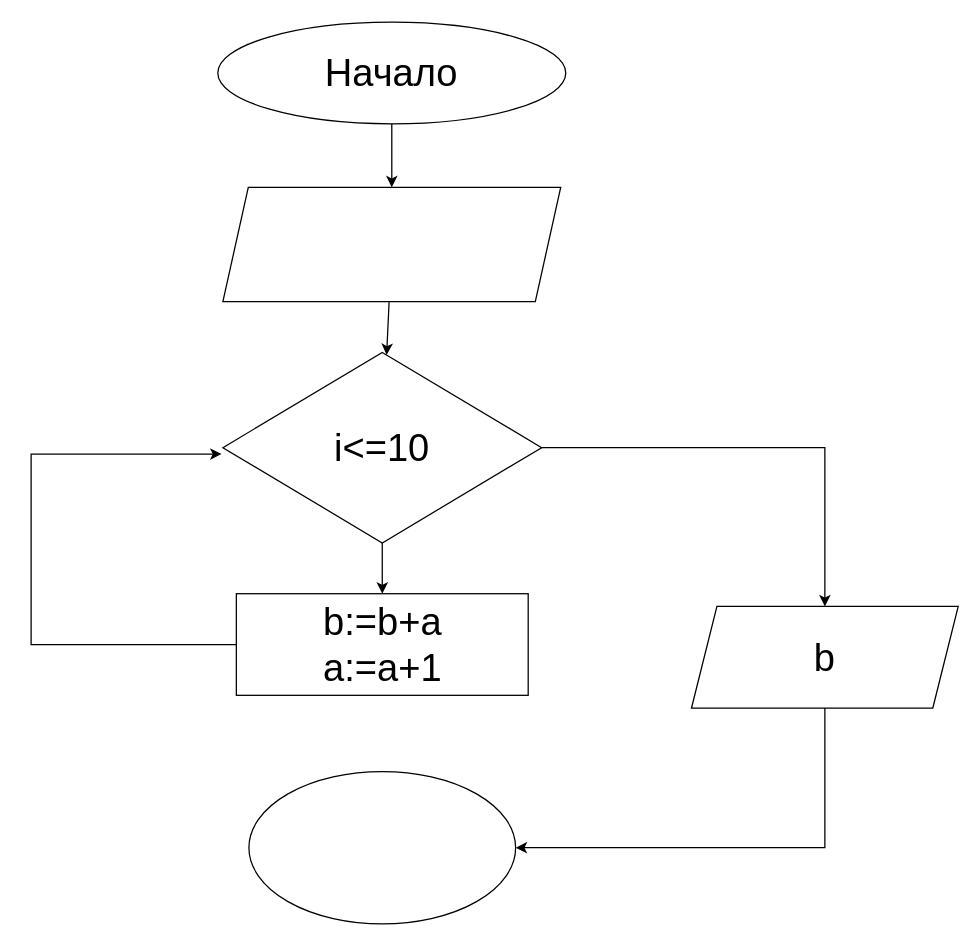
The diagram is 980 pixels wide and 946 high, and some of its shapes have lost their labels. The centre of each missing label's shape, as x and y in pixels:
a: = 1 b:=0: (391,244)
Конец: (382,847)
